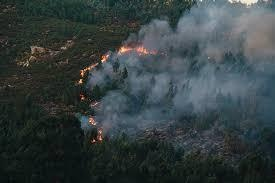fire: (77, 52, 108, 81), (115, 43, 159, 56), (86, 115, 105, 142)
